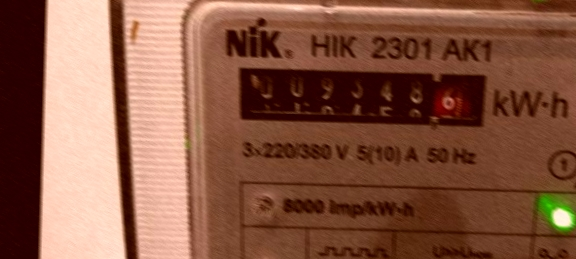0: (257, 74, 274, 101), (288, 72, 303, 99)
3: (349, 75, 364, 100)
4: (376, 74, 395, 104)
6: (439, 84, 456, 113)
8: (408, 78, 424, 106)
9: (319, 76, 334, 104)
screen: (219, 53, 499, 139)
